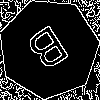B: (24, 23, 77, 80)
